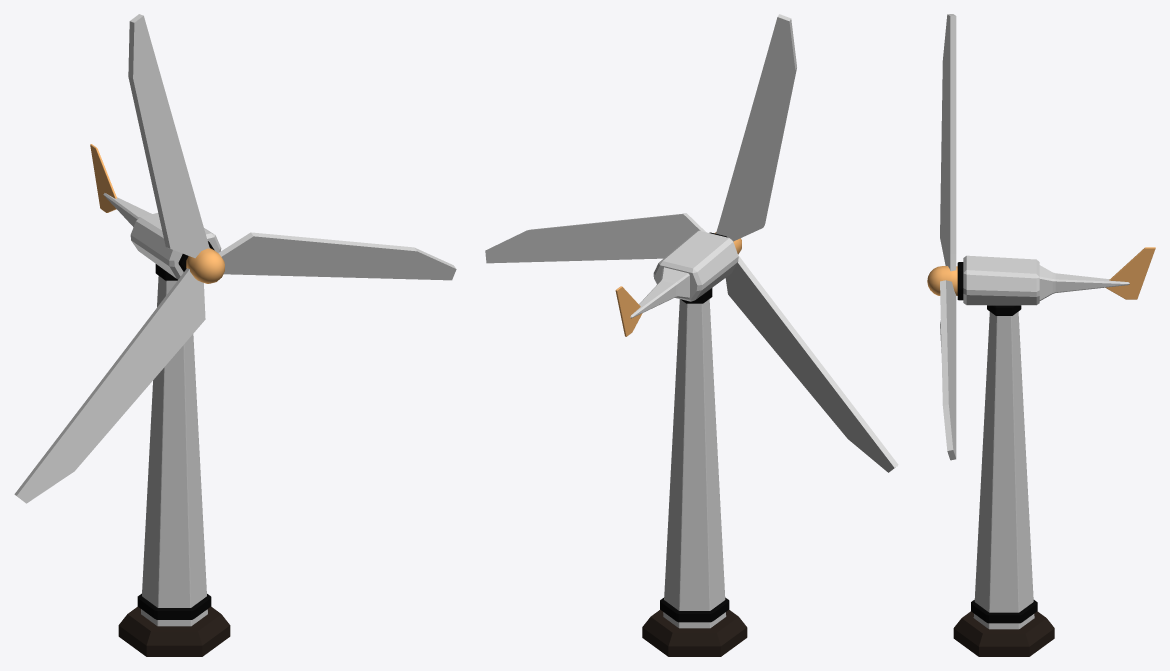
File: Eolienne#01.fbx
The picture shows the model from 3 angles, left to right: view 1: azimuth 30°, elevation 25°; view 2: azimuth 150°, elevation 25°; view 3: azimuth 270°, elevation 25°; orthographic projection. The views are drawn at different scales.
Parts seen in each view (by area): view 1: Cube.002, Cylinder, Cylinder.001, Cube, Sphere.001, Cylinder.004, Plane; view 2: Cube.002, Cylinder, Cube, Cylinder.001, Cube.001, Cylinder.004, Plane; view 3: Cylinder, Cube.002, Cube, Cylinder.001, Cube.001, Plane, Cylinder.004, Sphere.001.
Boxes of the visible parts, <box> form: Cube.002: <box>14,14,456,503</box>; Cylinder: <box>141,276,207,626</box>; Cylinder.001: <box>118,606,230,656</box>; Cube: <box>130,213,221,279</box>; Sphere.001: <box>186,248,224,283</box>; Cylinder.004: <box>137,593,211,619</box>; Plane: <box>90,144,116,212</box>; Cube.002: <box>485,14,898,472</box>; Cylinder: <box>663,299,726,628</box>; Cube: <box>653,230,738,301</box>; Cylinder.001: <box>642,609,747,656</box>; Cube.001: <box>630,267,689,318</box>; Cylinder.004: <box>660,597,729,622</box>; Plane: <box>615,286,642,336</box>; Cylinder: <box>973,311,1034,629</box>; Cube.002: <box>940,14,956,460</box>; Cube: <box>963,255,1039,305</box>; Cylinder.001: <box>953,611,1054,656</box>; Cube.001: <box>1039,265,1129,300</box>; Plane: <box>1105,247,1155,299</box>; Cylinder.004: <box>971,600,1037,623</box>; Sphere.001: <box>927,266,957,295</box>.
Size of the model in its own units: 2268 by 3248 by 1129.
